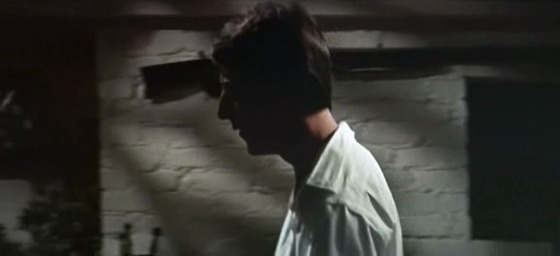face: (217, 68, 272, 156)
mcu: (1, 1, 560, 256)
person: (211, 2, 405, 256)
